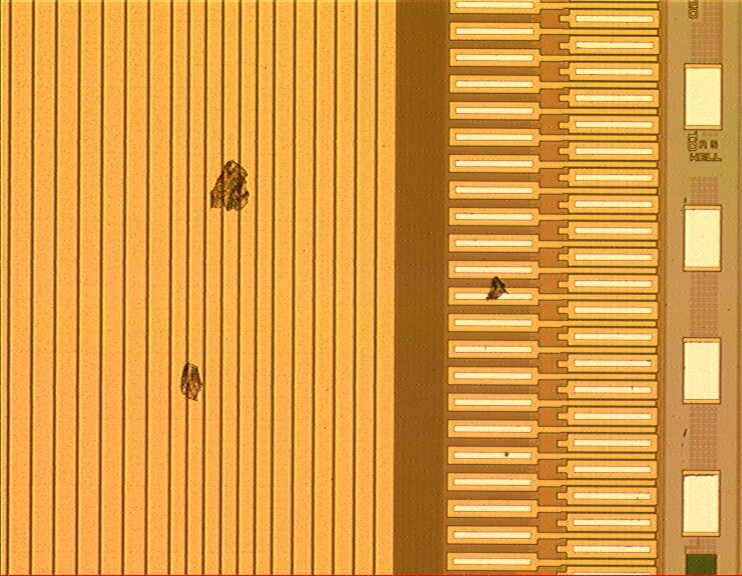PO CONTAMINATION: (174, 155, 740, 466)
